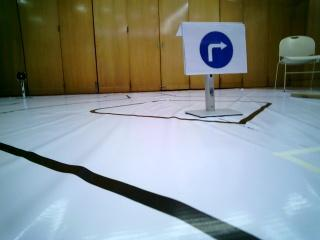right: (189, 21, 241, 71)
